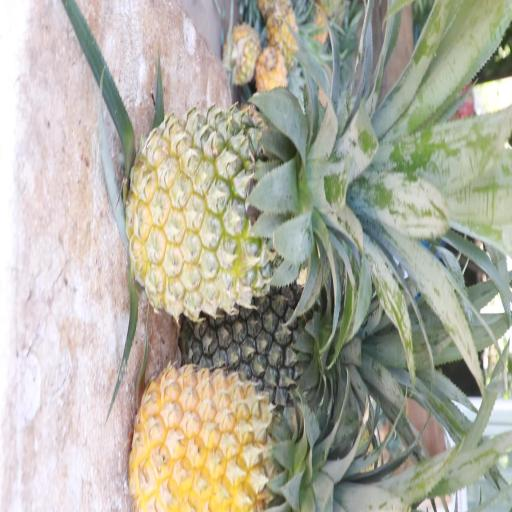------------------------------: (128, 105, 348, 315)
Pineapple - v8 v1: (131, 370, 316, 512)
